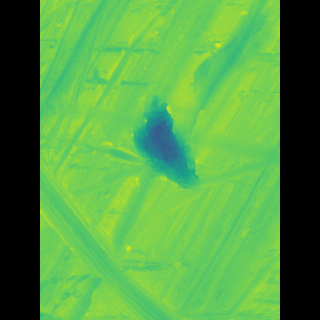Loch: (68, 147, 177, 317), (79, 2, 136, 179), (136, 86, 194, 200)
